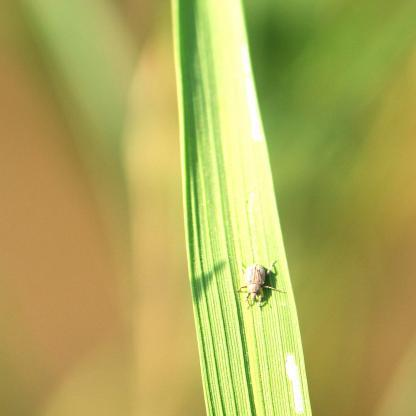rice-bug: (237, 256, 290, 306)
